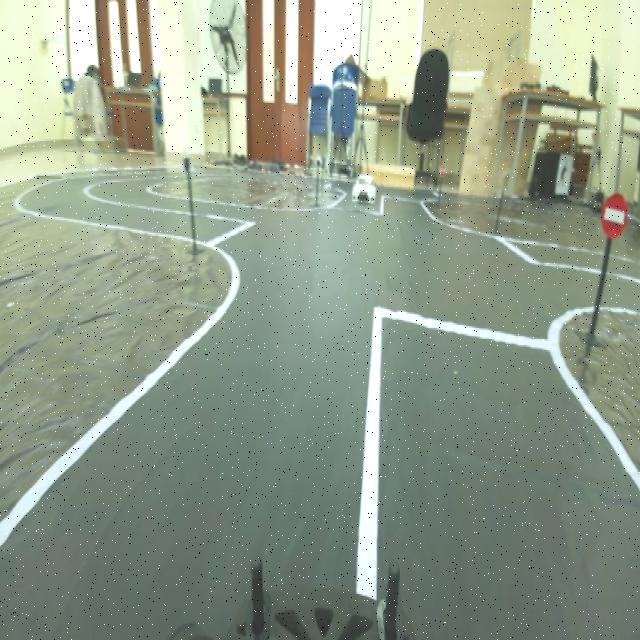no_entry: (593, 178, 631, 248)
